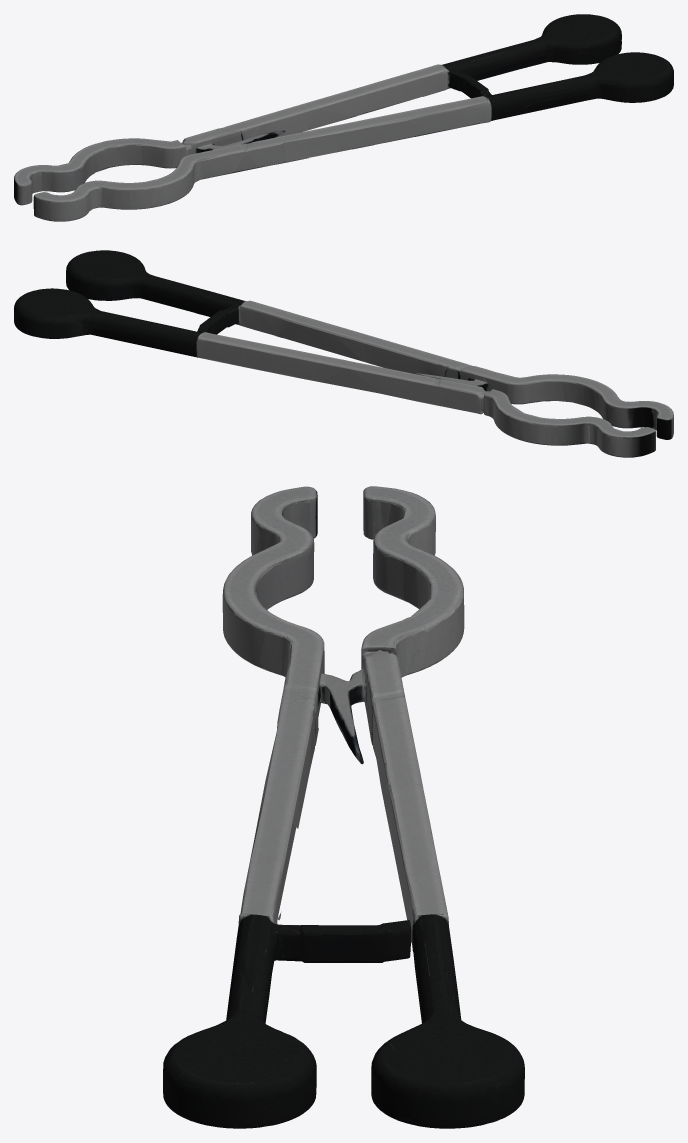
Rendered from Meshy_AI_Crucible_Tongs_Remesh_0827191620_texture.glb.
3 renders of one model, top to bottom at view 1: azimuth 30°, elevation 25°; view 2: azimuth 150°, elevation 25°; view 3: azimuth 270°, elevation 25°, orthographic. The views are drawn at different scales.
Parts seen in each view (by area): view 1: output_unwrapped; view 2: output_unwrapped; view 3: output_unwrapped.
Boxes of the visible parts, box(x1,y1,x2,y2) form: output_unwrapped: box(14, 14, 673, 221); output_unwrapped: box(14, 250, 673, 457); output_unwrapped: box(163, 486, 524, 1128).
Bounding box in the file's own units: 1.9 × 0.0632 × 0.4828.
1 material, 1 textured.
